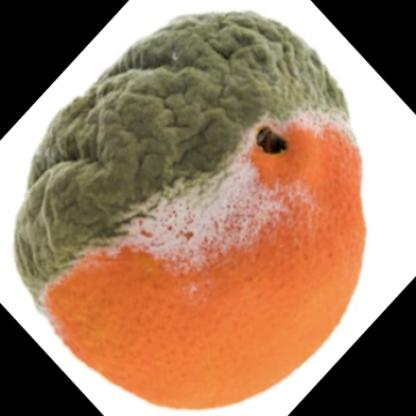rotten: (16, 11, 367, 405)
